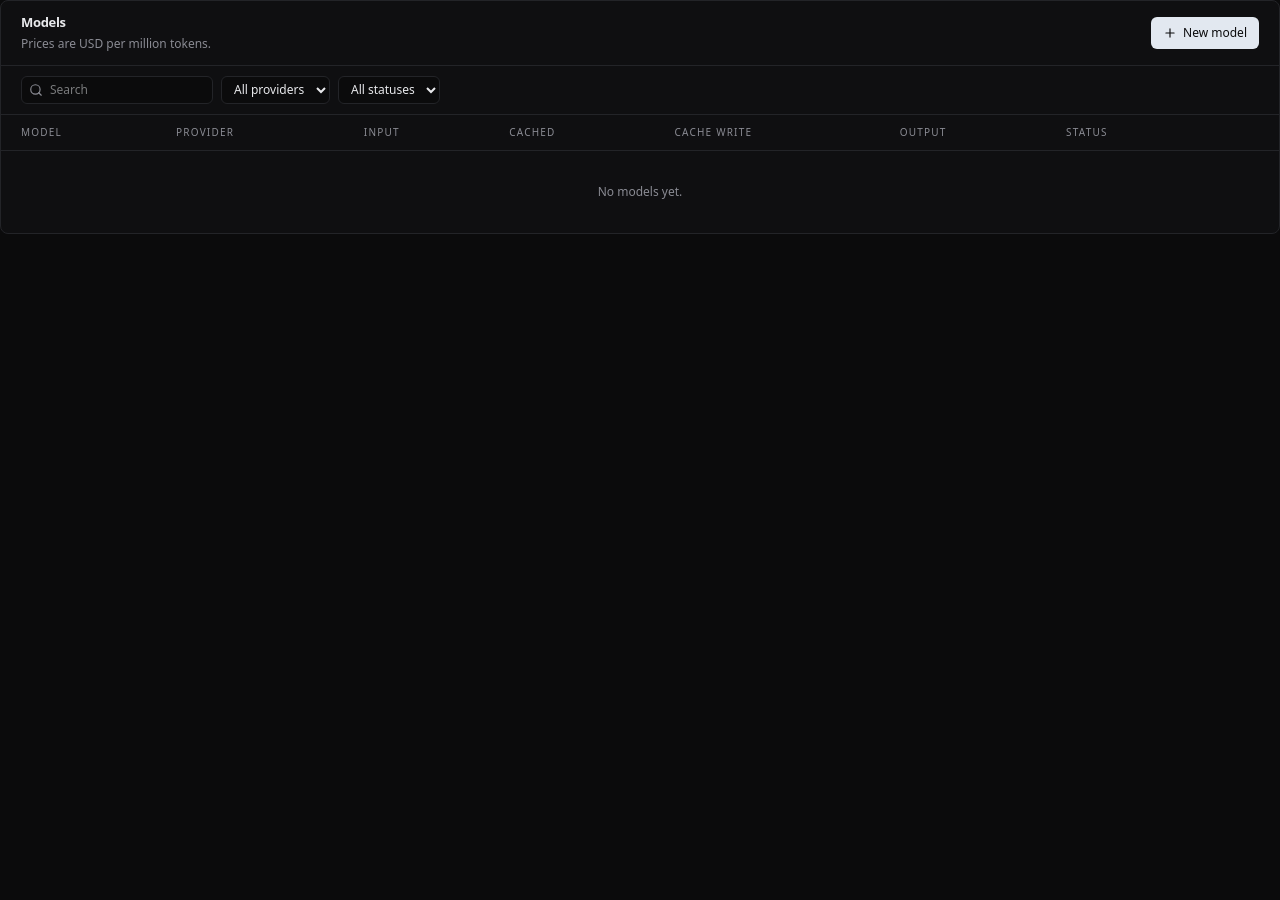
Test: <ModelsPanel /> › disables the save button while the request is in flight
Step 1. Click the button "New model" → (1205,33), box [1151, 17, 1259, 49]
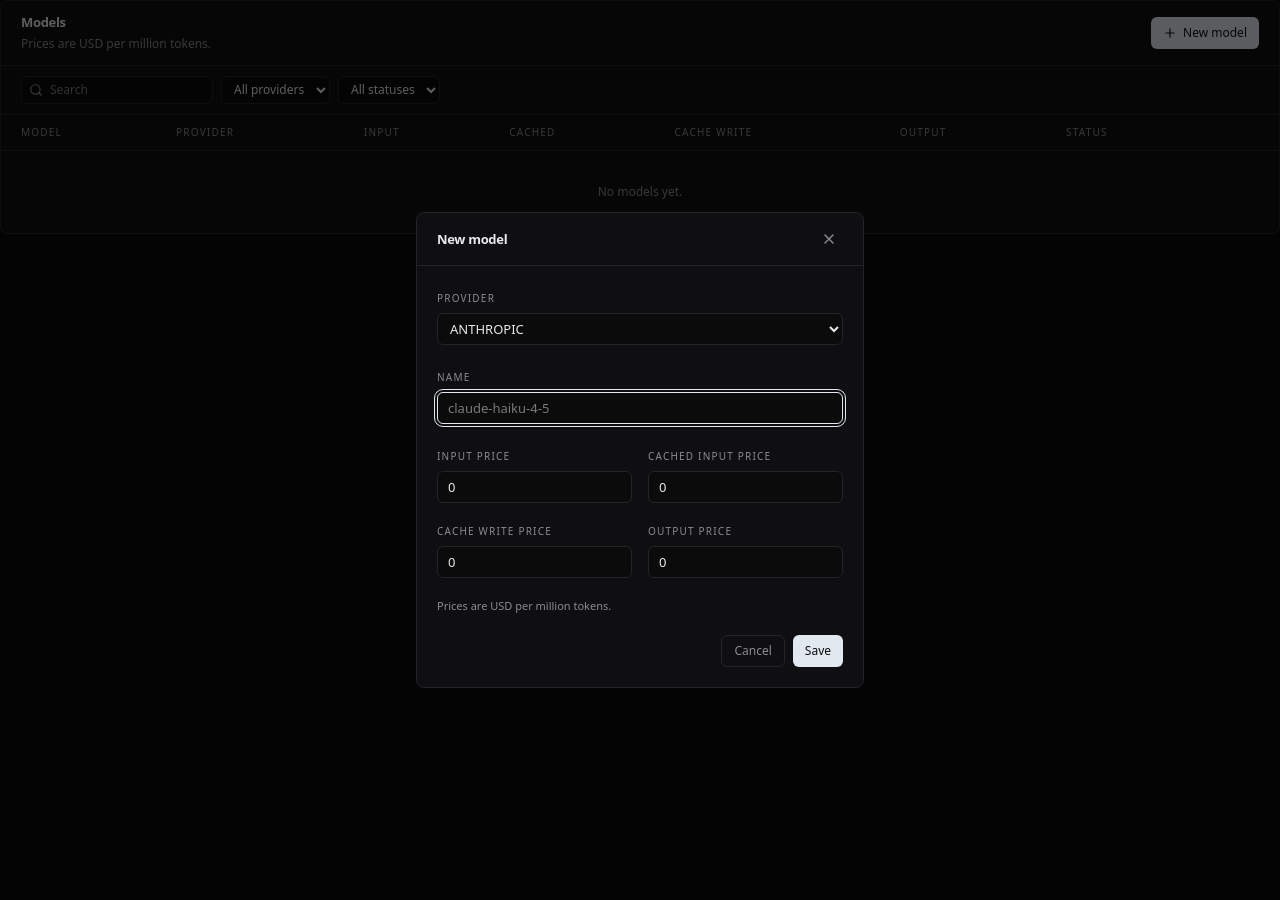
Step 2. Type "opus" into the field labelled "Name" → (640,408), box [437, 392, 843, 424]
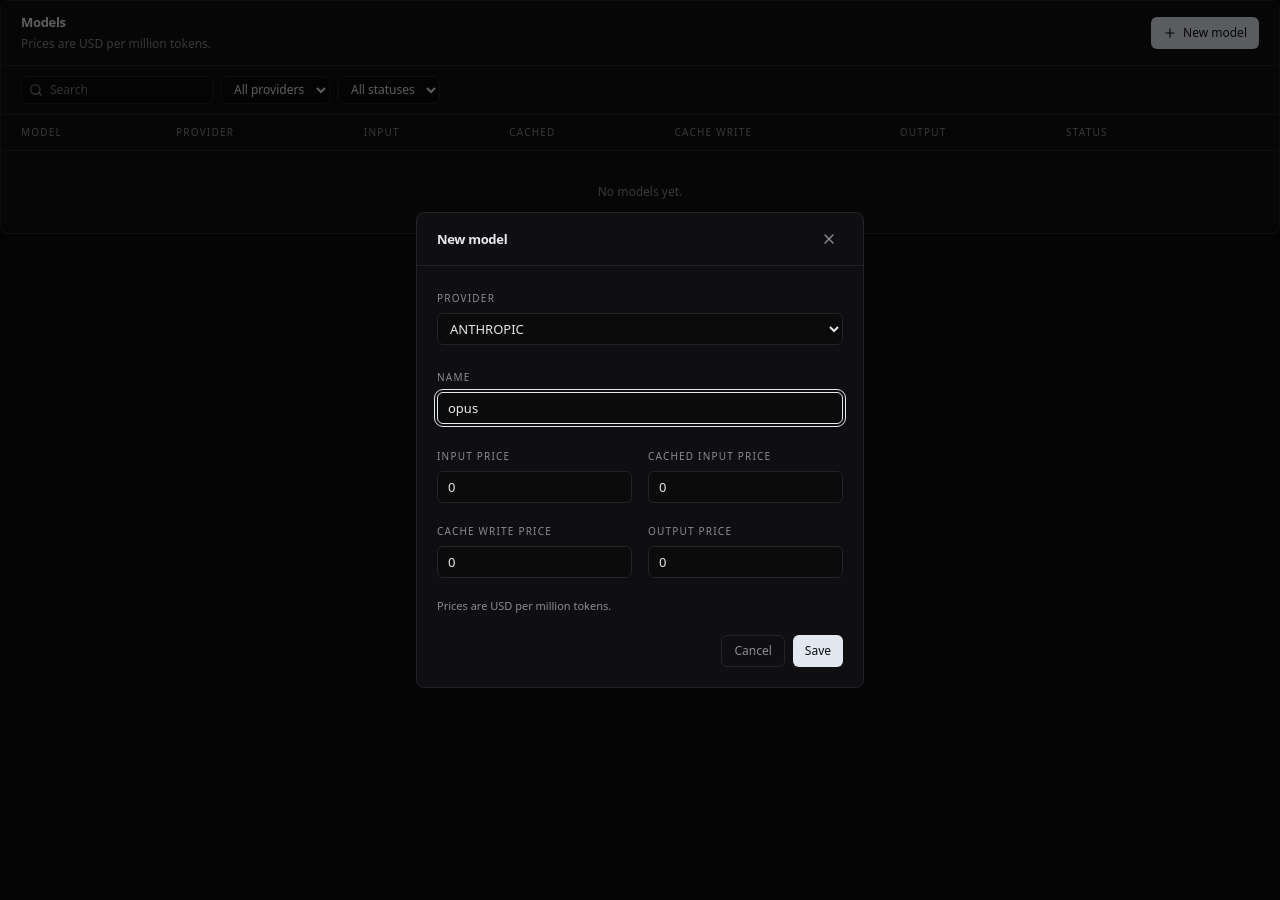
Step 3. Click the button "Save" → (818,651), box [793, 635, 843, 667]
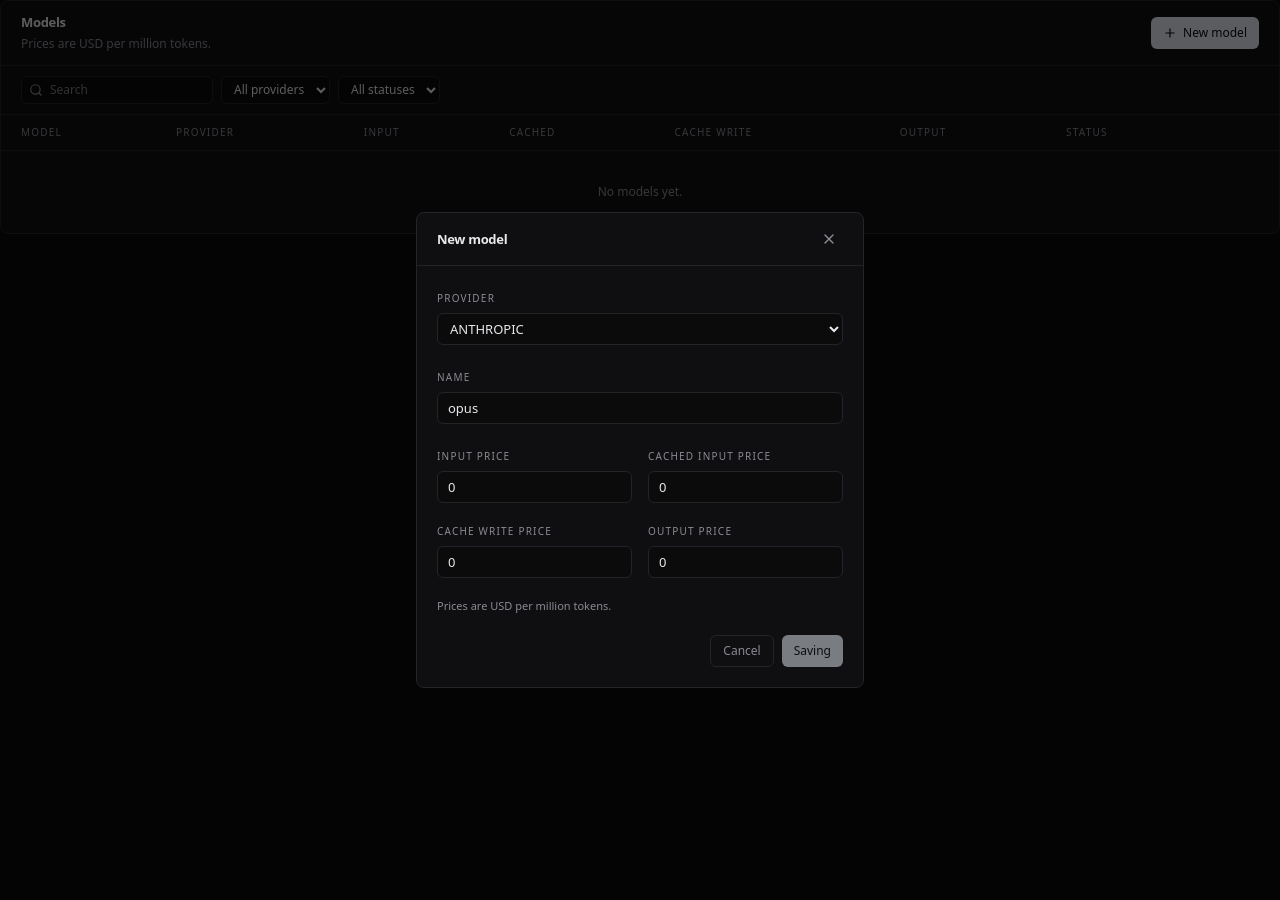
Expected: the button "Saving" is disabled, [782, 635, 843, 667]
